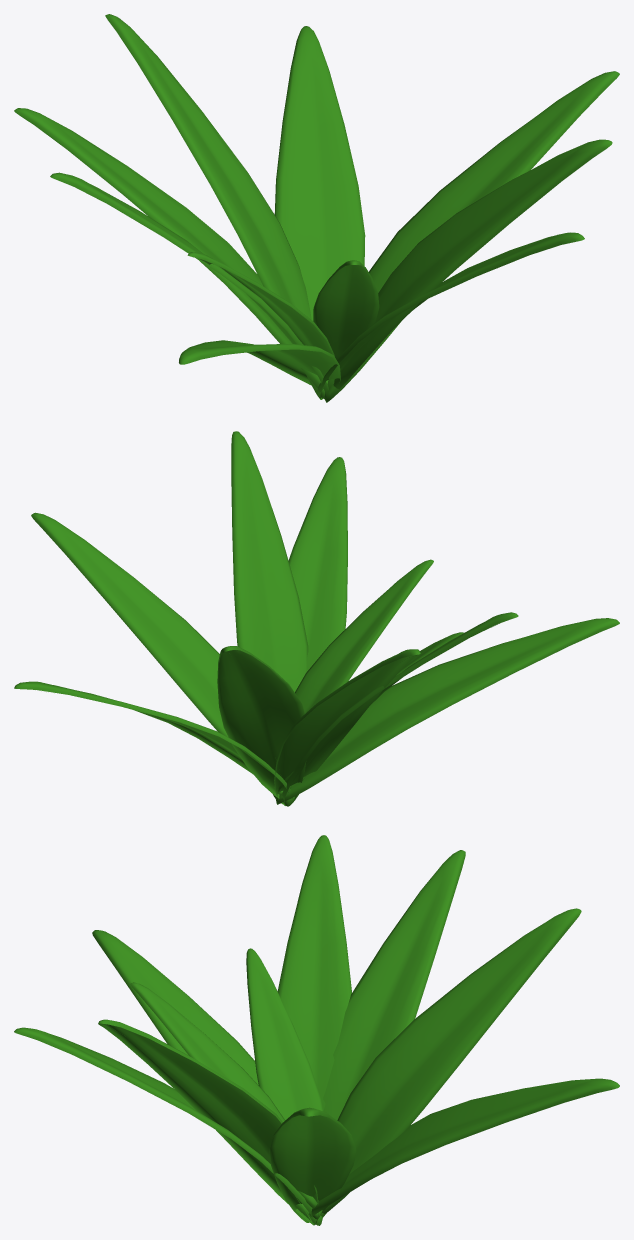
Rendered from Grass0.1.fbx.
3 views of the same model, one above another, from view 1: azimuth 30°, elevation 25°; view 2: azimuth 150°, elevation 25°; view 3: azimuth 270°, elevation 25° (orthographic). The views are drawn at different scales.
Visible parts, largest first — view 1: Leaf.005, Leaf.004, Leaf.009, Leaf, Leaf.003, Leaf.006, Leaf.002, Leaf.001, Leaf.008, Leaf.007; view 2: Leaf.009, Leaf.002, Leaf, Leaf.001, Leaf.004, Leaf.003, Leaf.006, Leaf.005, Leaf.008; view 3: Leaf.004, Leaf.003, Leaf.008, Leaf.009, Leaf.005, Leaf.007, Leaf, Leaf.002, Leaf.006, Leaf.001.
Boxes of the visible parts, x1,y1,x2,y2 form: Leaf.005: [274, 26, 365, 398]; Leaf.004: [105, 14, 321, 398]; Leaf.009: [334, 139, 612, 389]; Leaf: [324, 71, 619, 402]; Leaf.003: [14, 108, 323, 391]; Leaf.006: [313, 260, 379, 359]; Leaf.002: [179, 340, 340, 385]; Leaf.001: [317, 232, 584, 399]; Leaf.008: [50, 172, 328, 395]; Leaf.007: [187, 252, 334, 356]; Leaf.009: [231, 431, 308, 798]; Leaf.002: [276, 618, 619, 804]; Leaf: [31, 512, 282, 794]; Leaf.001: [284, 457, 347, 806]; Leaf.004: [217, 646, 306, 803]; Leaf.003: [274, 649, 420, 804]; Leaf.006: [295, 559, 433, 713]; Leaf.005: [14, 681, 292, 798]; Leaf.008: [282, 612, 518, 805]; Leaf.004: [322, 908, 581, 1213]; Leaf.003: [321, 850, 465, 1217]; Leaf.008: [277, 835, 351, 1110]; Leaf.009: [98, 1019, 318, 1225]; Leaf.005: [309, 1078, 619, 1216]; Leaf.007: [246, 948, 323, 1219]; Leaf: [269, 1107, 356, 1222]; Leaf.002: [92, 930, 322, 1225]; Leaf.006: [130, 982, 318, 1208]; Leaf.001: [14, 1027, 312, 1217].
Size of the model in its own units: 1342 by 689 by 1344.
